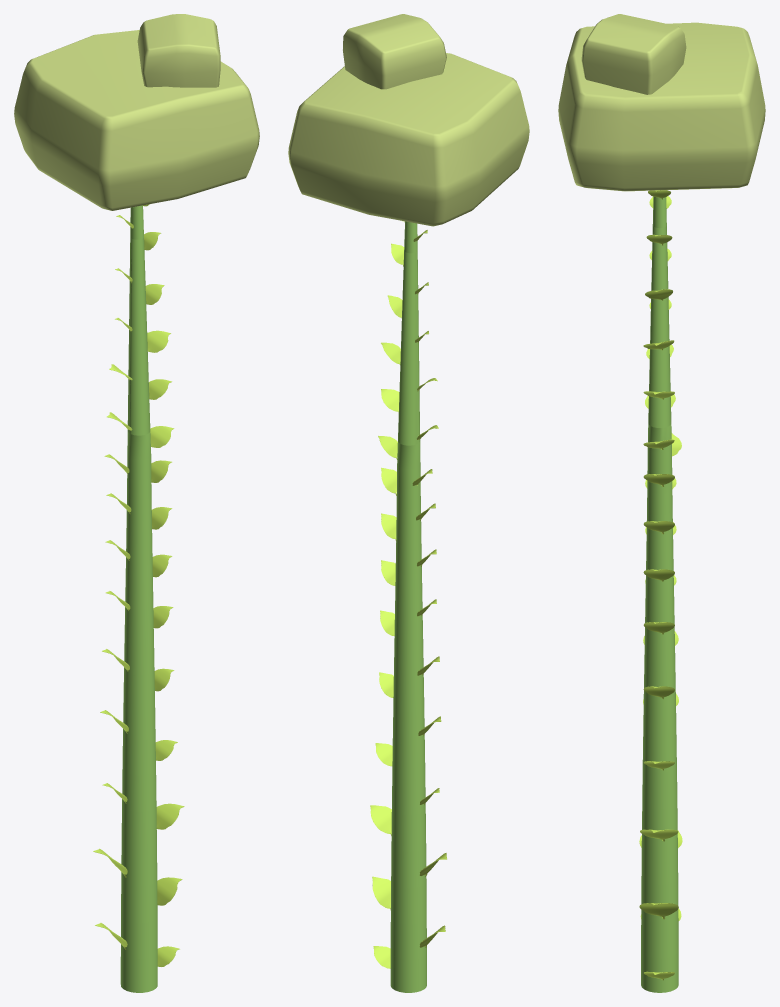
The model's file is orange_tree (1).fbx.
3 renders of one model, left to right at view 1: azimuth 30°, elevation 25°; view 2: azimuth 150°, elevation 25°; view 3: azimuth 270°, elevation 25°, orthographic. The views are drawn at different scales.
Visible parts, largest first — view 1: m_01, g_01, g_02, g_03, g_04, g_05, g_07, g_06, g_08, g_09; view 2: m_01, g_01, g_02, g_03, g_04, g_05, g_07, g_06, g_08, g_09; view 3: m_01, g_02, g_01, g_03, g_04, g_05, g_07, g_06, g_08, g_09, g_10.
Part boxes in pixels (x1,y1,x2,y2): m_01: [14, 14, 259, 210]; g_01: [95, 877, 182, 992]; g_02: [93, 769, 184, 886]; g_03: [100, 668, 177, 775]; g_04: [102, 586, 173, 675]; g_05: [105, 507, 172, 591]; g_07: [106, 379, 174, 459]; g_06: [104, 454, 171, 521]; g_08: [109, 310, 170, 386]; g_09: [115, 232, 164, 313]; m_01: [288, 14, 529, 226]; g_01: [372, 876, 445, 992]; g_02: [370, 773, 446, 888]; g_03: [375, 672, 441, 779]; g_04: [380, 593, 439, 680]; g_05: [381, 513, 436, 598]; g_07: [378, 389, 438, 469]; g_06: [381, 464, 435, 529]; g_08: [381, 322, 437, 397]; g_09: [387, 243, 428, 325]; m_01: [558, 14, 765, 191]; g_02: [639, 766, 682, 884]; g_01: [639, 877, 681, 992]; g_03: [642, 665, 678, 772]; g_04: [643, 575, 678, 670]; g_05: [643, 510, 676, 585]; g_07: [643, 374, 675, 452]; g_06: [643, 433, 681, 515]; g_08: [643, 299, 674, 377]; g_09: [645, 225, 672, 302]; g_10: [648, 190, 671, 228].
Bounding box in the file's own units: 4.52 × 23.4 × 4.52.
